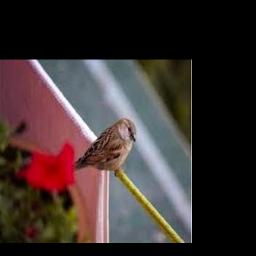Sparrow: (73, 118, 137, 177)
